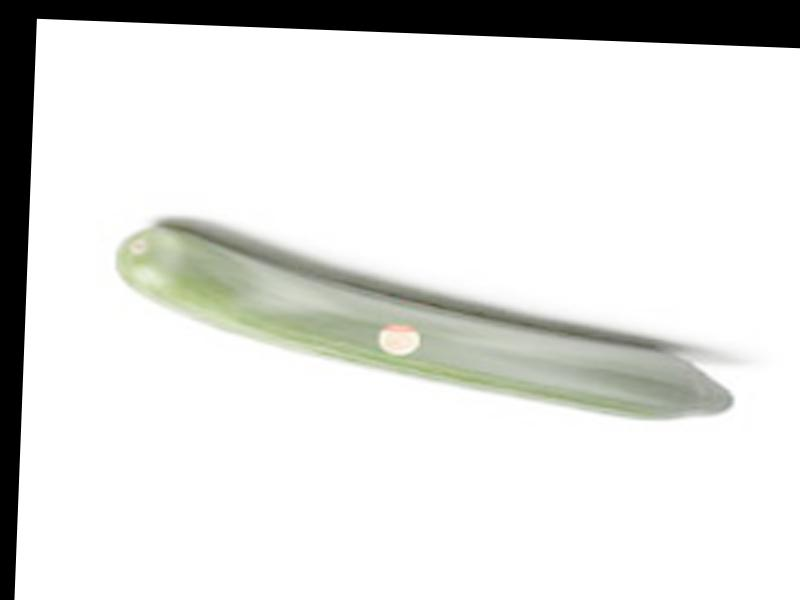Cucumber: (106, 224, 739, 423)
